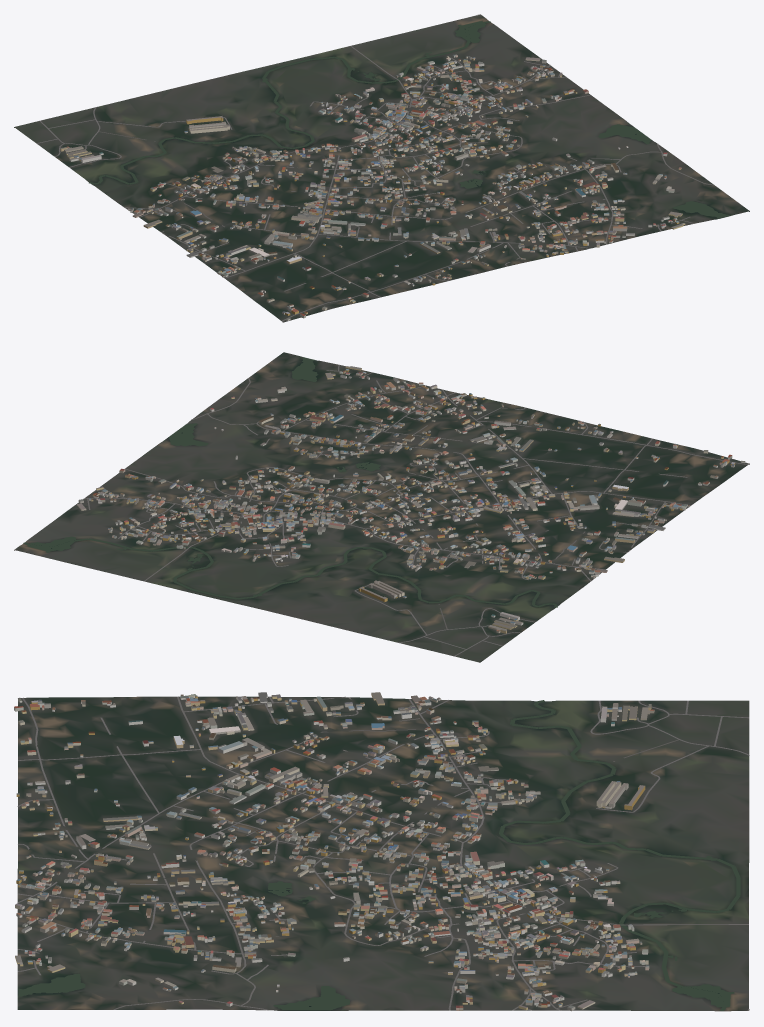
The picture shows the model from 3 angles, top to bottom: view 1: azimuth 30°, elevation 25°; view 2: azimuth 150°, elevation 25°; view 3: azimuth 270°, elevation 25°; orthographic projection. The views are drawn at different scales.
Visible parts, largest first — view 1: ground, buildings, roads, water; view 2: ground, buildings, roads, water; view 3: ground, buildings, roads, water.
Boxes of the visible parts, x1,y1,x2,y2 form: ground: (14, 15, 749, 322); buildings: (60, 54, 685, 320); roads: (37, 14, 714, 322); water: (89, 21, 729, 218); ground: (14, 352, 749, 662); buildings: (77, 366, 745, 633); roads: (14, 365, 749, 656); water: (23, 357, 557, 607); ground: (17, 696, 749, 1011); buildings: (14, 692, 654, 1011); roads: (17, 696, 749, 1010); water: (18, 700, 740, 1011).
Bounding box in the file's own units: 1422 × 25.43 × 1411.
